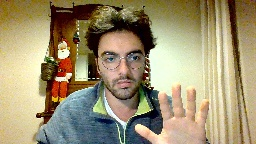Mano_aperta: (130, 81, 211, 144)
